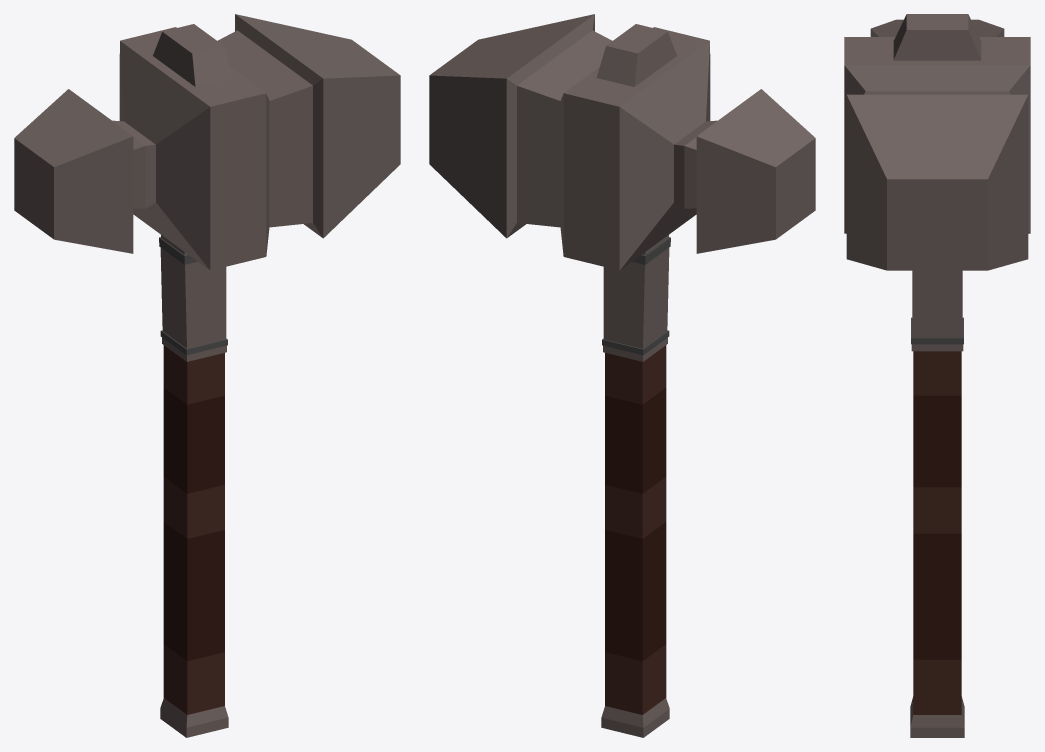
Rendered from HammerSmall.fbx.
The picture shows the model from 3 angles, left to right: view 1: azimuth 30°, elevation 25°; view 2: azimuth 150°, elevation 25°; view 3: azimuth 270°, elevation 25°; orthographic projection. The views are drawn at different scales.
Parts seen in each view (by area): view 1: Cube; view 2: Cube; view 3: Cube.
Boxes of the visible parts, <box> form: Cube: <box>14,14,400,737</box>; Cube: <box>429,14,815,737</box>; Cube: <box>844,14,1030,737</box>.
Bounding box in the file's own units: 230 × 440 × 105.
